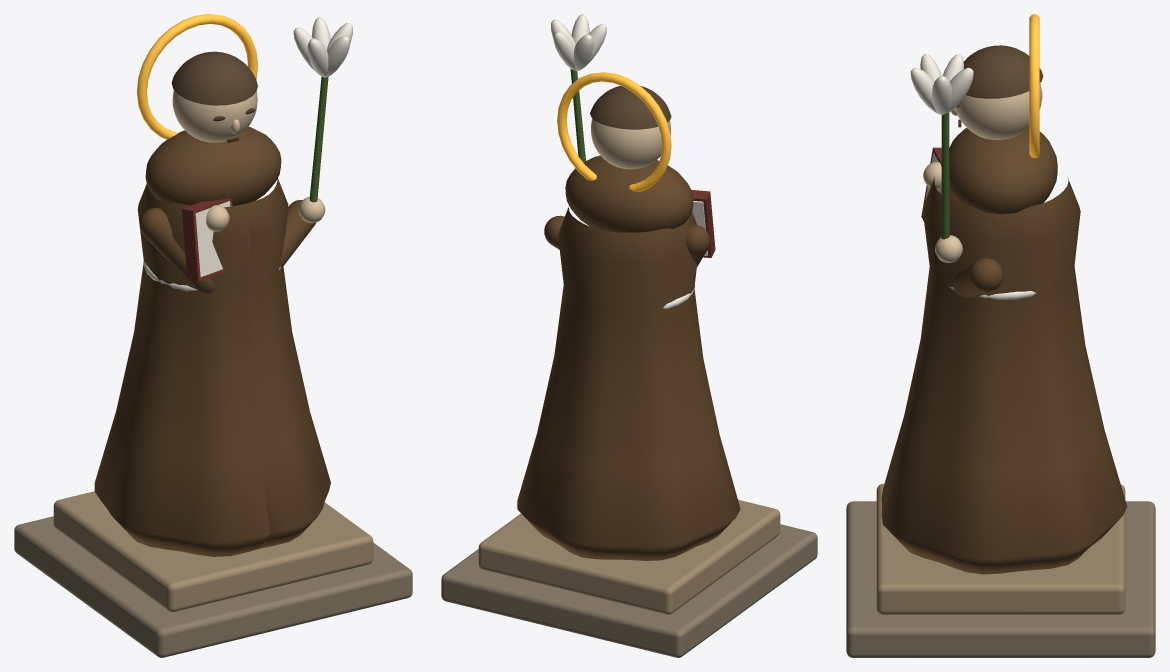
File: statue-anton.glb
3 renders of one model, left to right at view 1: azimuth 30°, elevation 25°; view 2: azimuth 150°, elevation 25°; view 3: azimuth 270°, elevation 25°, orthographic. The views are drawn at different scales.
Parts seen in each view (by area): view 1: Robe, PlinthLow, PlinthTop, Shoulders, Hair, Head, object 25, ArmL, Book, LilyPetal (×2), BookPages, ArmR (+1 smaller); view 2: Robe, PlinthLow, PlinthTop, Shoulders, object 25, Head, Hair, ArmL, Book, object 14, LilyPetal; view 3: Robe, PlinthLow, PlinthTop, Shoulders, Hair, Head, LilyPetal (×3), object 25, ArmR, object 14, HandR.
Boxes of the visible parts, left/top/right/bottom form: Robe: left=94, top=178, right=330, bottom=556; PlinthLow: left=14, top=516, right=412, bottom=657; PlinthTop: left=53, top=491, right=373, bottom=612; Shoulders: left=145, top=126, right=281, bottom=206; Hair: left=171, top=51, right=257, bottom=105; Head: left=172, top=90, right=257, bottom=142; object 25: left=137, top=14, right=257, bottom=139; ArmL: left=139, top=208, right=215, bottom=293; Book: left=181, top=198, right=232, bottom=281; LilyPetal (×2): left=307, top=35, right=349, bottom=77; BookPages: left=195, top=201, right=230, bottom=276; ArmR: left=280, top=200, right=316, bottom=269; Robe: left=517, top=206, right=740, bottom=560; PlinthLow: left=441, top=524, right=817, bottom=657; PlinthTop: left=478, top=499, right=780, bottom=614; Shoulders: left=565, top=155, right=693, bottom=232; object 25: left=557, top=72, right=671, bottom=192; Head: left=591, top=118, right=670, bottom=169; Hair: left=590, top=86, right=671, bottom=129; ArmL: left=686, top=225, right=710, bottom=266; Book: left=691, top=190, right=715, bottom=257; object 14: left=570, top=68, right=585, bottom=162; LilyPetal: left=574, top=34, right=593, bottom=71; Robe: left=881, top=176, right=1127, bottom=574; PlinthLow: left=846, top=501, right=1155, bottom=657; PlinthTop: left=876, top=483, right=1125, bottom=614; Shoulders: left=949, top=127, right=1057, bottom=214; Hair: left=963, top=45, right=1043, bottom=98; Head: left=955, top=83, right=1042, bottom=139; LilyPetal (×3): left=910, top=67, right=973, bottom=114; object 25: left=1029, top=14, right=1039, bottom=158; ArmR: left=952, top=257, right=1003, bottom=297; object 14: left=941, top=112, right=949, bottom=239; HandR: left=935, top=235, right=962, bottom=262.
Bounding box in the file's own units: 0.92 × 1.89 × 0.92.
